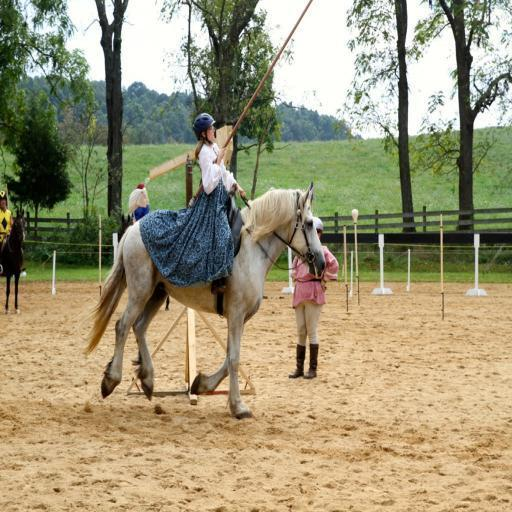horse: (76, 182, 326, 420), (0, 207, 26, 314)
